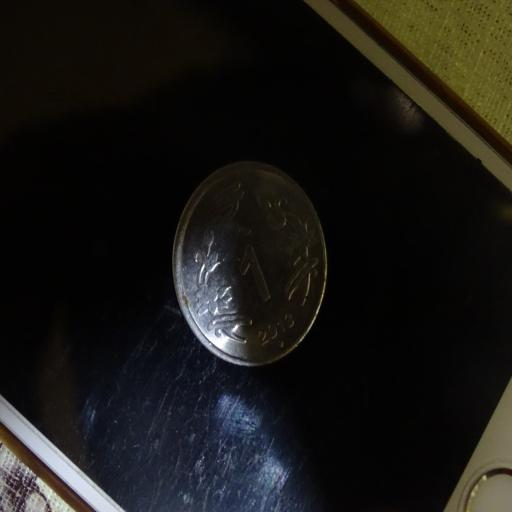rupee1: (172, 163, 327, 366)
